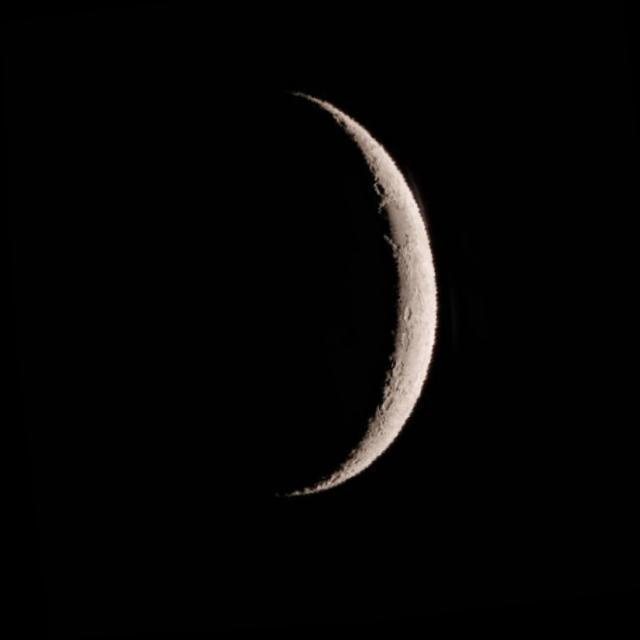moon: (93, 61, 493, 540)
